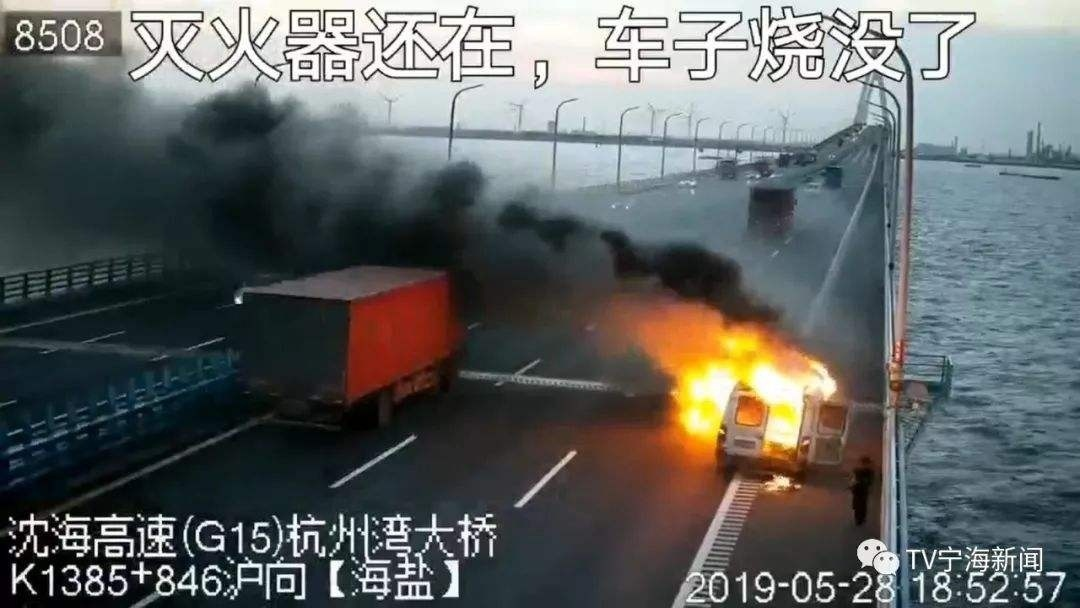fire: (665, 323, 832, 450)
